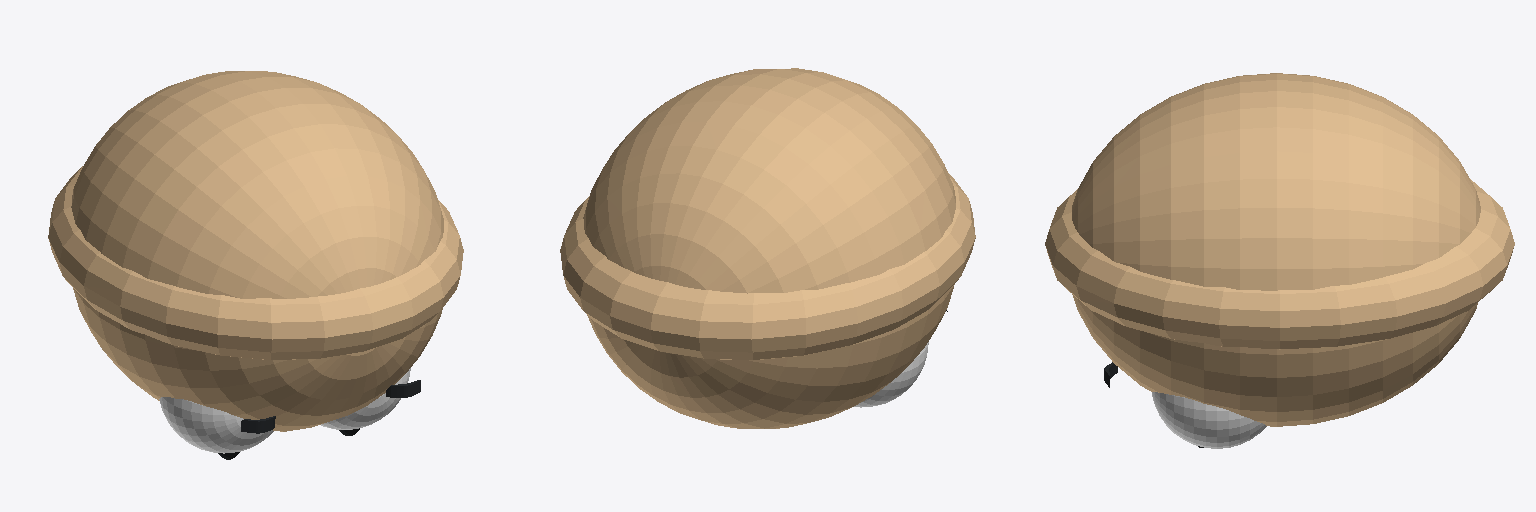
The model's file is wallnut.obj.
3 views of the same model, side by side, from view 1: azimuth 30°, elevation 25°; view 2: azimuth 150°, elevation 25°; view 3: azimuth 270°, elevation 25° (orthographic).
Parts seen in each view (by area): view 1: obj_0; view 2: obj_0; view 3: obj_0.
Boxes of the visible parts, x1=… form: obj_0: x1=48, y1=71, x2=463, y2=459; obj_0: x1=560, y1=68, x2=975, y2=428; obj_0: x1=1045, y1=73, x2=1514, y2=448.
Size of the model in its own units: 60 by 55 by 71.